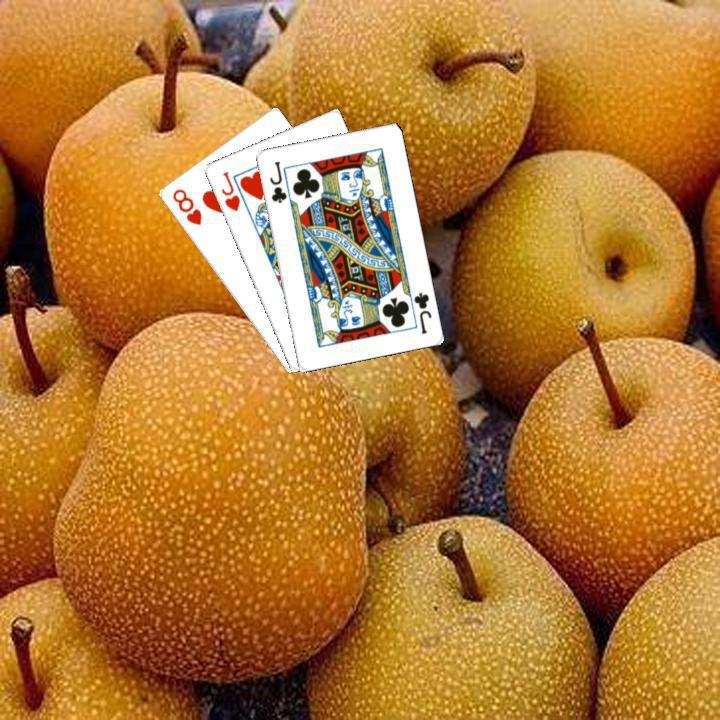8: (167, 184, 204, 227)
J: (216, 167, 242, 213), (409, 288, 433, 336), (265, 156, 288, 205)
